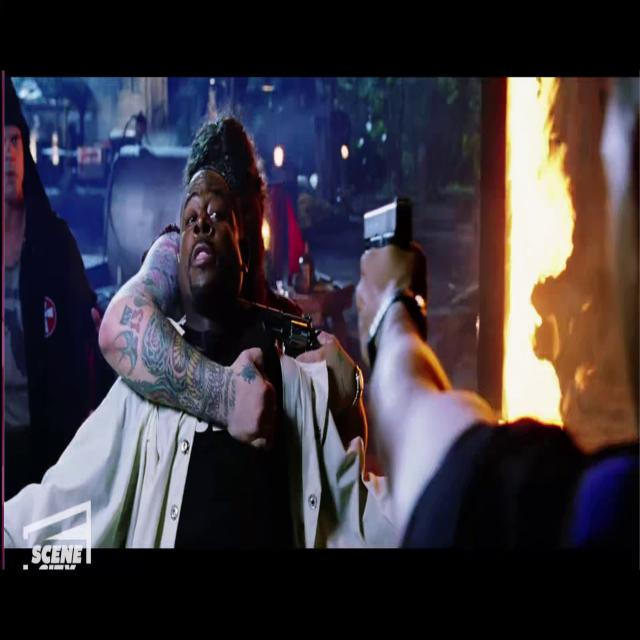weapons: (355, 185, 425, 325)
